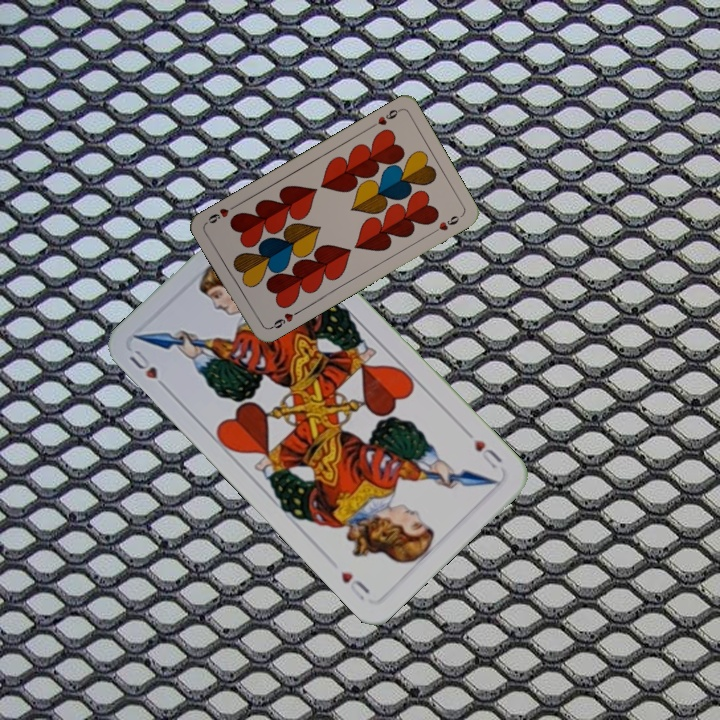H9: (366, 105, 403, 131), (265, 307, 302, 332)
HU: (124, 345, 172, 394), (470, 435, 506, 472)
